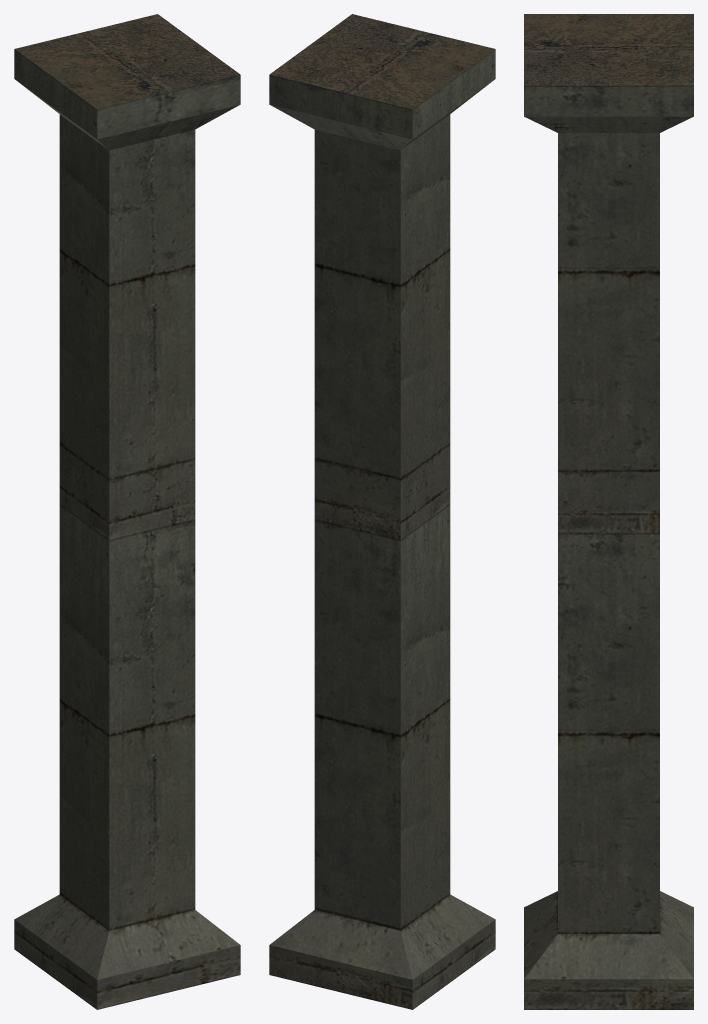
File: pillar_rg_10.obj
The picture shows the model from 3 angles, left to right: view 1: azimuth 30°, elevation 25°; view 2: azimuth 150°, elevation 25°; view 3: azimuth 270°, elevation 25°; orthographic projection. The views are drawn at different scales.
Visible parts, largest first — view 1: pillar_rg_10; view 2: pillar_rg_10; view 3: pillar_rg_10.
Part boxes in pixels (x1,y1,x2,y2): pillar_rg_10: [14, 14, 240, 1009]; pillar_rg_10: [269, 14, 495, 1009]; pillar_rg_10: [524, 14, 693, 1009].
Size of the model in its own units: 1 by 6 by 1.
